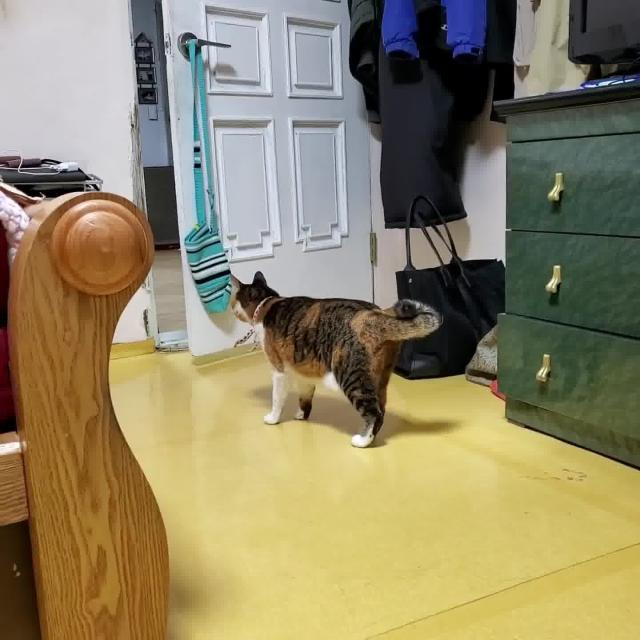cat: (224, 269, 445, 457)
